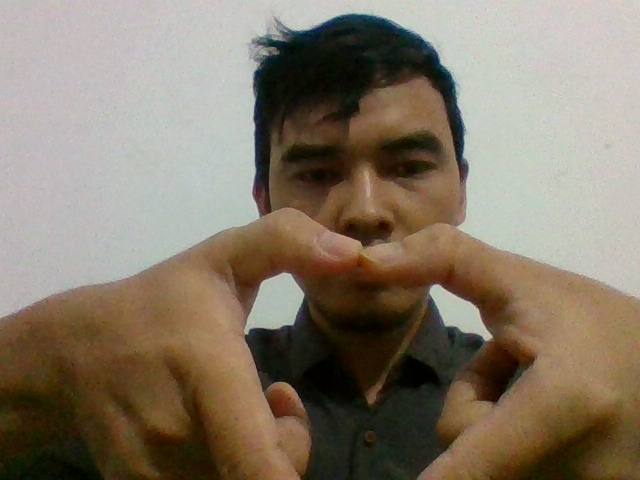iloveyou: (130, 214, 593, 479)
